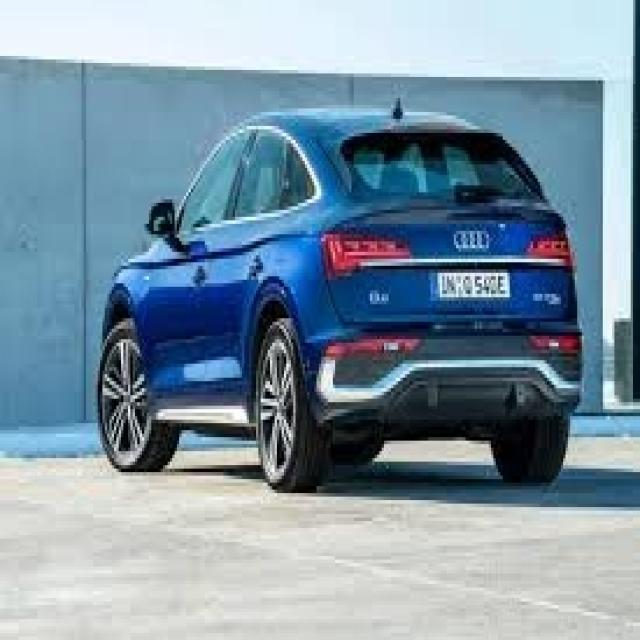blue: (86, 116, 579, 498)
